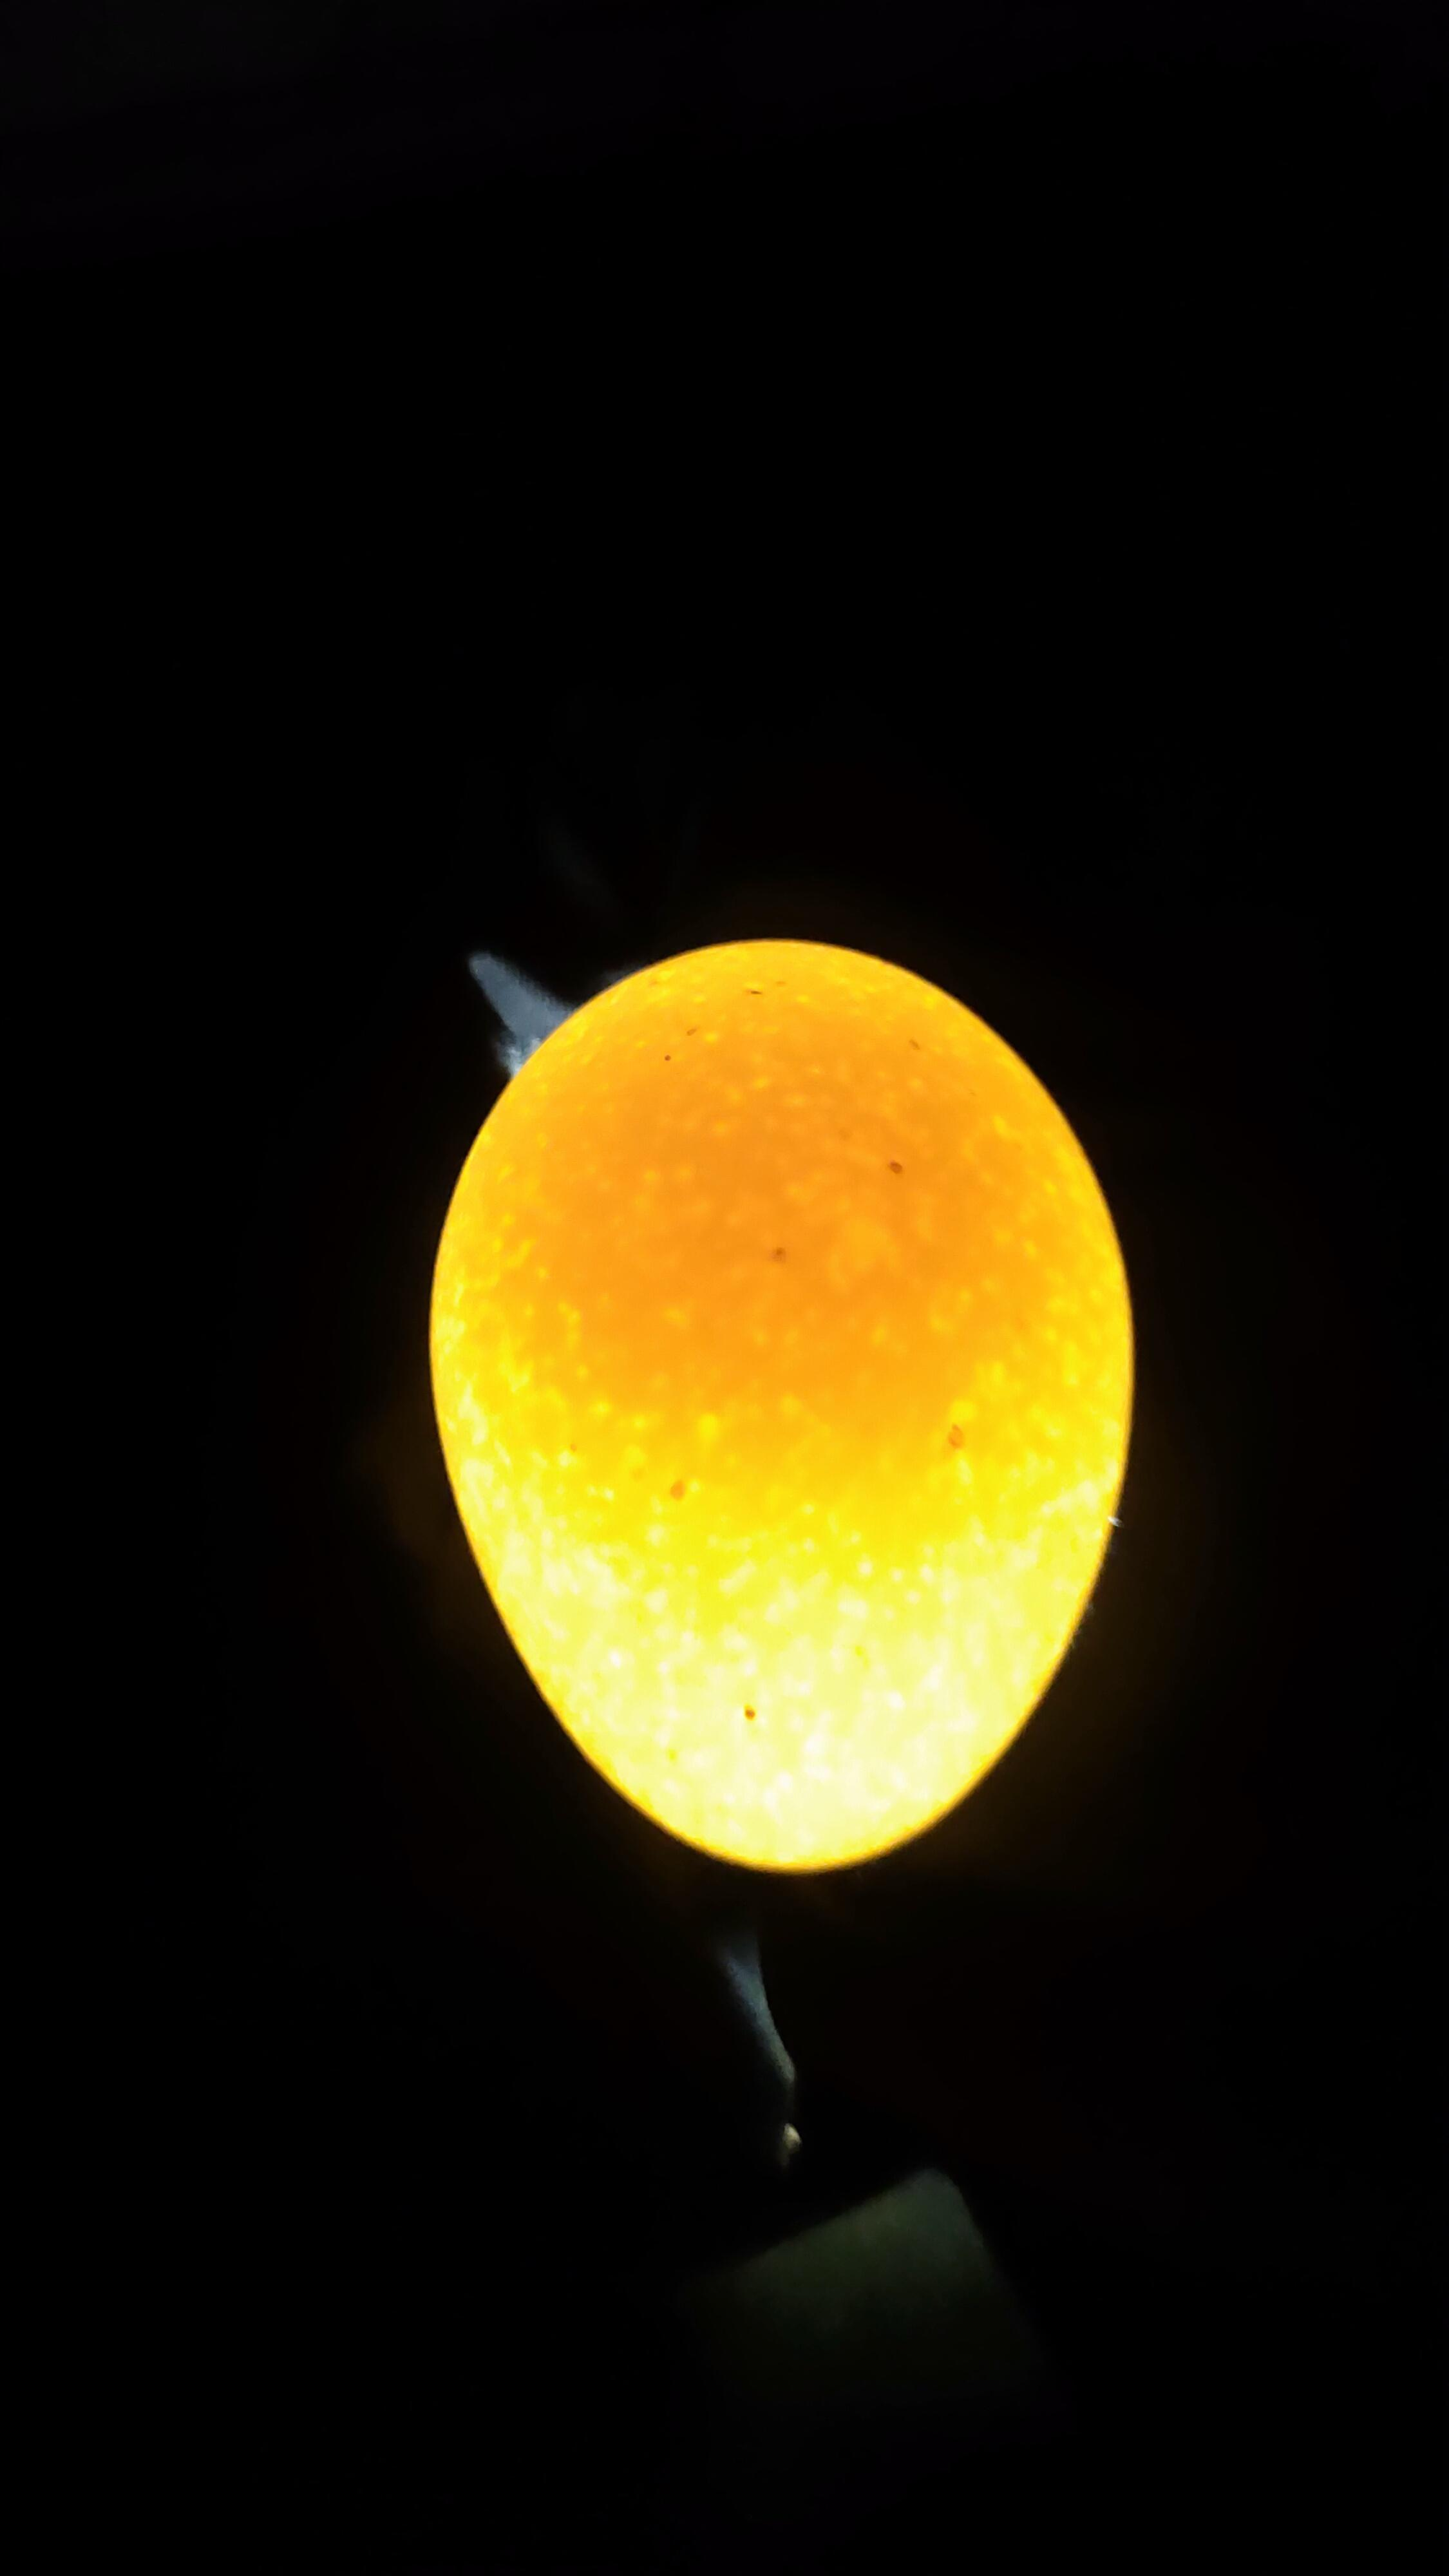A - Good: (354, 869, 1185, 1920)
